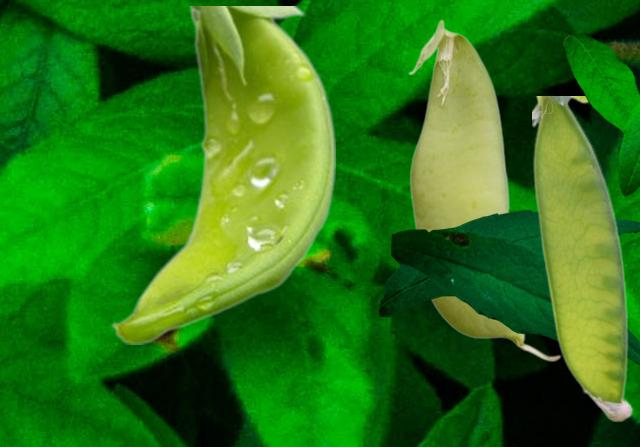pea: (110, 6, 334, 343), (407, 19, 561, 361), (532, 96, 632, 420)
